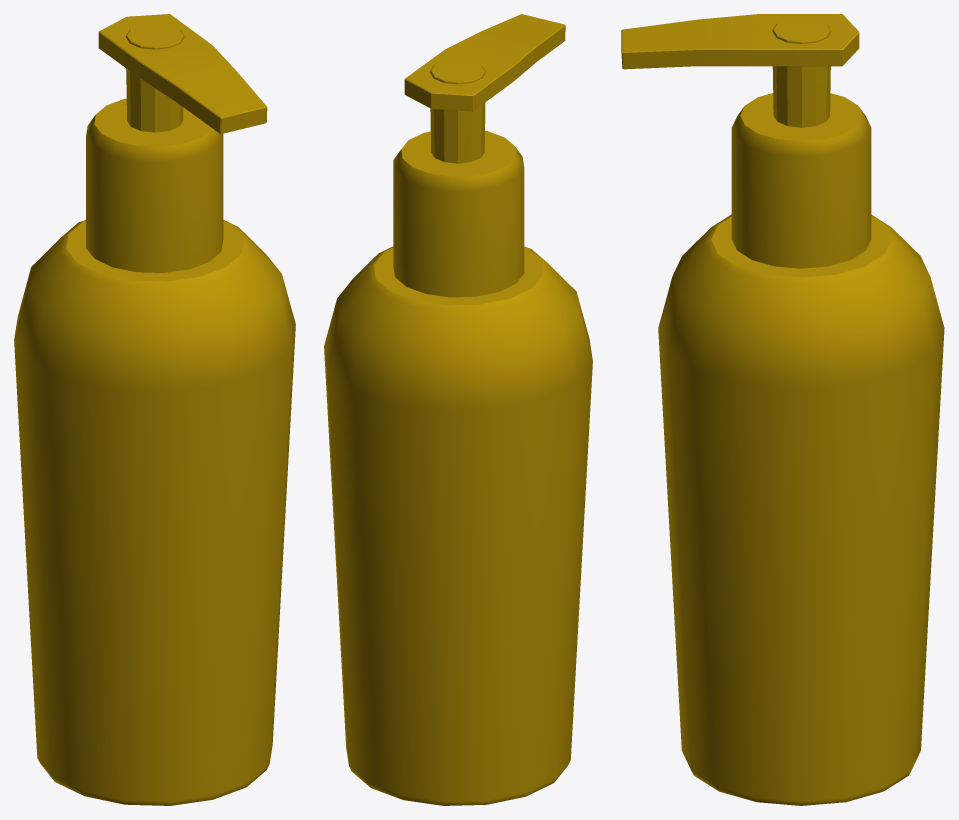
Rendered from Flacon_01.fbx.
3 views of the same model, side by side, from view 1: azimuth 30°, elevation 25°; view 2: azimuth 150°, elevation 25°; view 3: azimuth 270°, elevation 25° (orthographic). The views are drawn at different scales.
Visible parts, largest first — view 1: Flacon_01; view 2: Flacon_01; view 3: Flacon_01.
Part boxes in pixels (x1,y1,x2,y2): Flacon_01: [14, 14, 295, 805]; Flacon_01: [324, 14, 592, 805]; Flacon_01: [621, 14, 944, 805].
Bounding box in the file's own units: 35.54 × 99.64 × 40.11.
